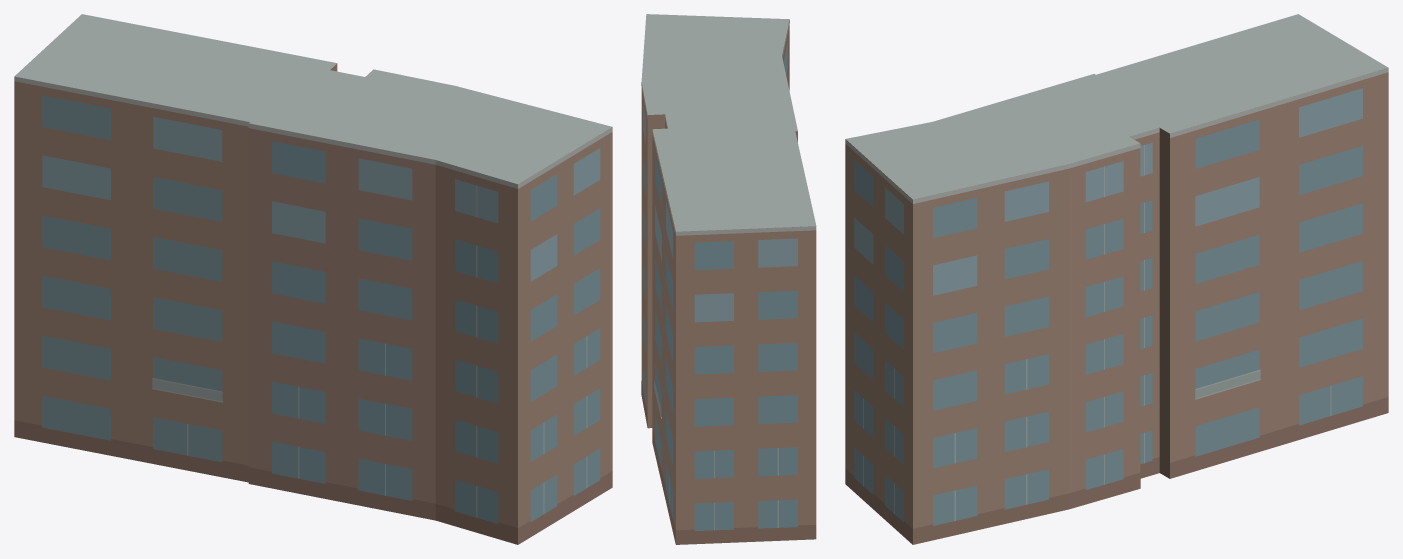
File: survey-upis-33043629.glb
The picture shows the model from 3 angles, left to right: view 1: azimuth 30°, elevation 25°; view 2: azimuth 150°, elevation 25°; view 3: azimuth 270°, elevation 25°; orthographic projection. The views are drawn at different scales.
Parts seen in each view (by area): view 1: survey-upis-33043629.tmp; view 2: survey-upis-33043629.tmp; view 3: survey-upis-33043629.tmp.
Boxes of the visible parts, <box> form: survey-upis-33043629.tmp: <box>14,14,612,544</box>; survey-upis-33043629.tmp: <box>641,14,816,544</box>; survey-upis-33043629.tmp: <box>845,14,1388,544</box>.
Size of the model in its own units: 21.34 by 18.5 by 26.38.
